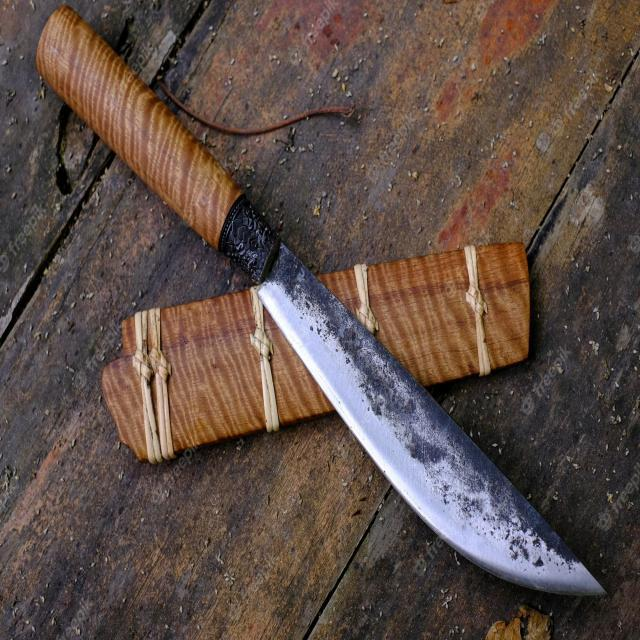short sword: (26, 2, 618, 611)
